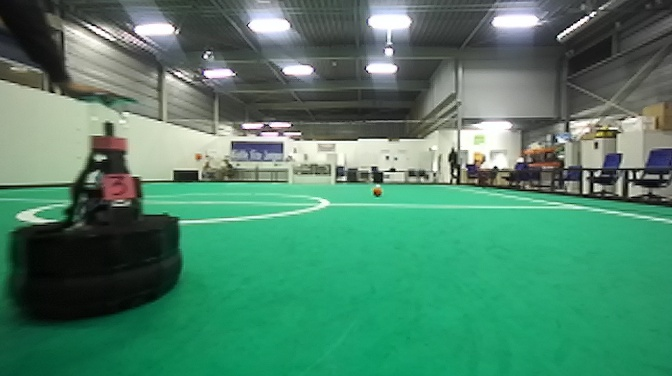ball: (369, 183, 386, 203)
goal: (287, 157, 337, 188)
goalpost: (329, 160, 337, 188), (287, 159, 294, 186)
robot: (1, 85, 189, 329)
